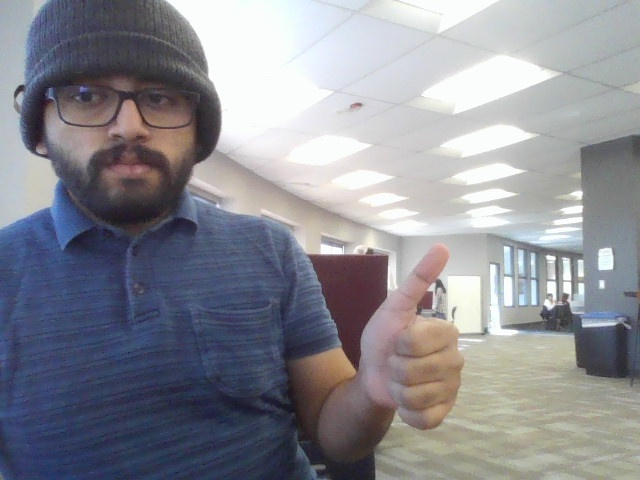start: (355, 235, 478, 439)
